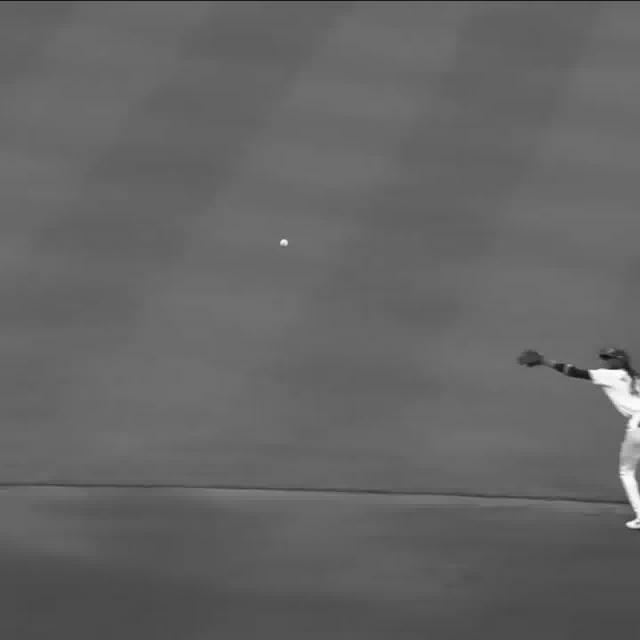baseball: (280, 240, 290, 248)
baseball_glove: (517, 348, 543, 368)
